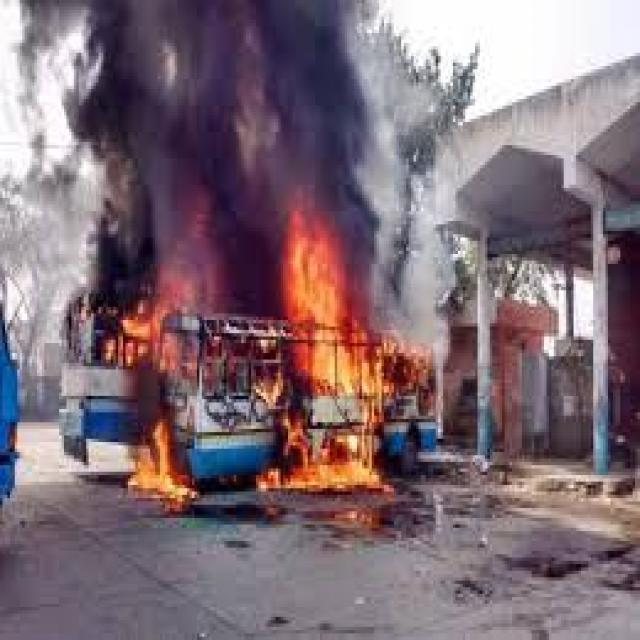Fire: (258, 208, 390, 492), (108, 294, 200, 378), (132, 418, 202, 508), (389, 334, 437, 392)
Smoke: (20, 7, 430, 210), (354, 2, 432, 326), (95, 210, 280, 292)
